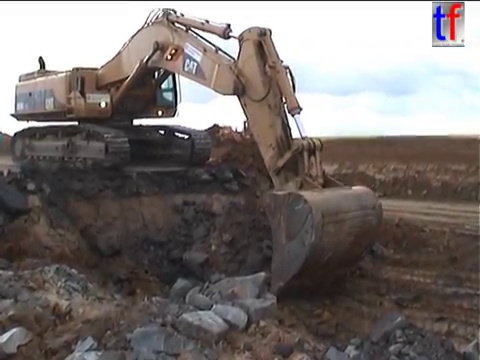excavator: (7, 5, 387, 301)
wheel loader: (202, 113, 288, 153)
